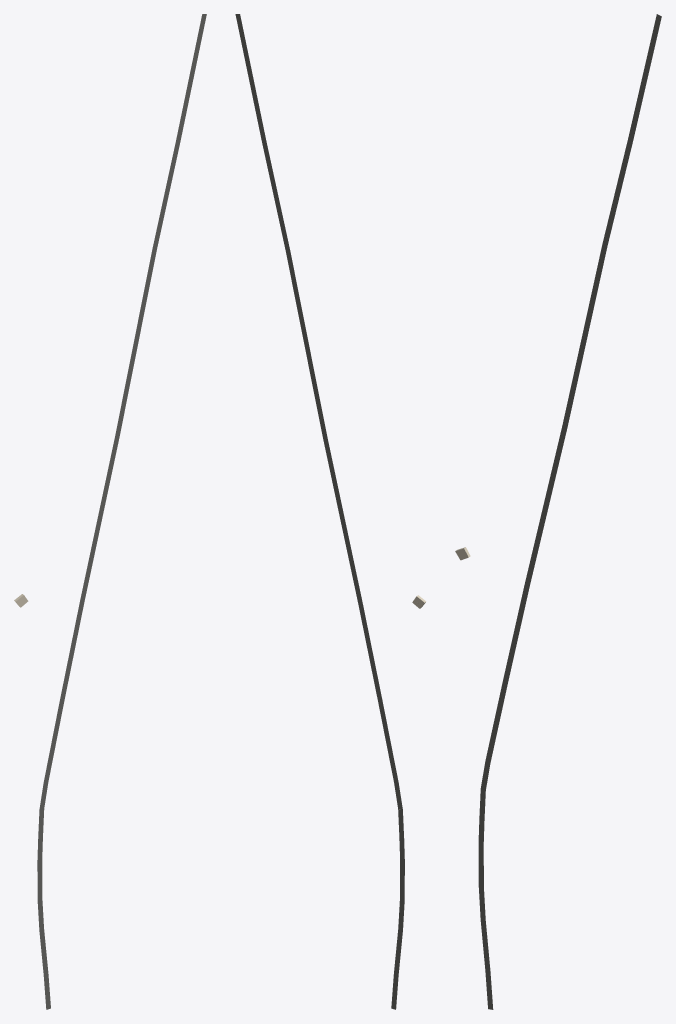
The model's file is historic-palestine-06_19_3478_3133.glb.
3 renders of one model, left to right at view 1: azimuth 30°, elevation 25°; view 2: azimuth 150°, elevation 25°; view 3: azimuth 330°, elevation 25°, orthographic. The views are drawn at different scales.
Parts seen in each view (by area): view 1: Road 40; view 2: Road 40; view 3: Road 40.
Part boxes in pixels (x1,y1,x2,y2): Road 40: [37, 14, 206, 1009]; Road 40: [235, 14, 404, 1009]; Road 40: [478, 14, 661, 1009].
Size of the model in its own units: 479 by 2296 by 8.7.
